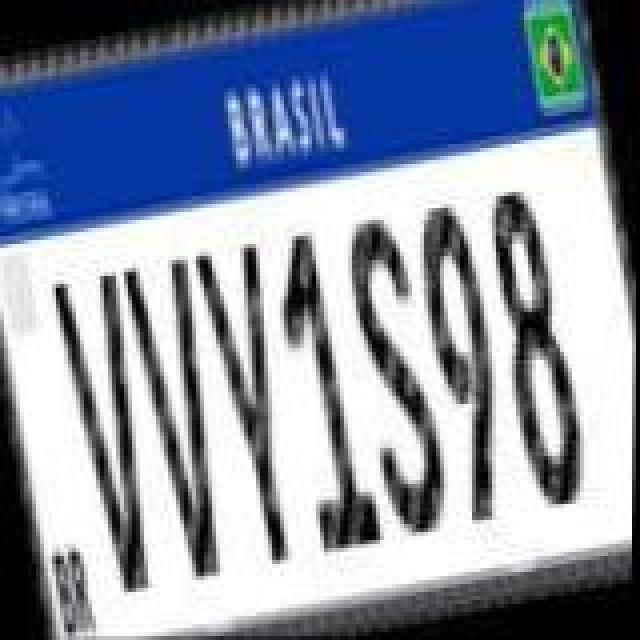1: (260, 222, 388, 558)
8: (474, 176, 606, 520)
9: (404, 194, 532, 530)
S: (328, 204, 464, 552)
V: (46, 266, 182, 606), (118, 252, 250, 584)
Y: (186, 240, 318, 572)
